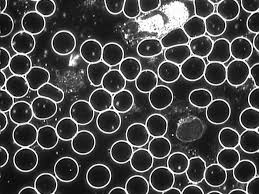Malaria: (48, 27, 78, 57), (135, 33, 164, 58), (225, 59, 251, 86), (77, 36, 103, 62), (54, 156, 79, 182), (86, 162, 111, 188), (11, 123, 38, 147), (13, 147, 40, 171), (85, 59, 109, 86), (185, 156, 207, 184), (70, 100, 95, 124), (156, 59, 181, 83), (202, 60, 227, 84), (190, 32, 215, 56), (206, 99, 231, 123), (71, 130, 96, 154), (148, 85, 173, 109), (149, 167, 175, 190), (21, 10, 48, 32), (10, 31, 37, 53), (36, 124, 59, 149), (182, 55, 205, 80), (31, 96, 57, 118), (102, 41, 125, 65), (111, 89, 135, 112), (119, 57, 143, 80), (25, 66, 49, 89), (204, 162, 228, 185), (232, 159, 256, 182), (36, 83, 65, 102), (145, 113, 168, 136), (126, 123, 149, 146), (110, 140, 133, 163), (130, 148, 153, 171), (148, 136, 171, 159), (167, 151, 190, 174), (217, 125, 240, 148), (102, 68, 125, 91), (89, 87, 112, 110), (207, 38, 231, 60), (189, 34, 213, 56), (6, 75, 28, 97), (34, 172, 56, 194), (217, 147, 240, 168), (189, 87, 213, 107), (9, 53, 31, 74), (240, 129, 259, 153), (125, 175, 149, 194), (230, 38, 252, 58), (217, 1, 239, 20), (178, 5, 201, 23), (35, 1, 60, 17), (239, 108, 259, 128), (123, 1, 141, 17), (1, 12, 13, 35), (1, 90, 14, 111), (104, 1, 124, 14), (247, 11, 259, 31), (141, 1, 161, 12), (1, 45, 10, 69), (248, 89, 259, 108), (241, 1, 259, 11), (251, 63, 259, 85), (1, 145, 9, 166), (18, 186, 37, 194), (1, 111, 8, 131), (1, 70, 6, 88), (253, 34, 258, 51)
